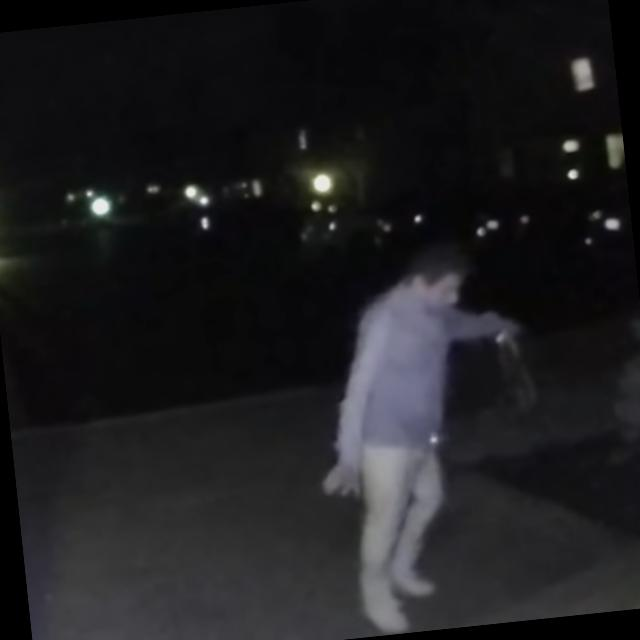person: (300, 234, 558, 633)
